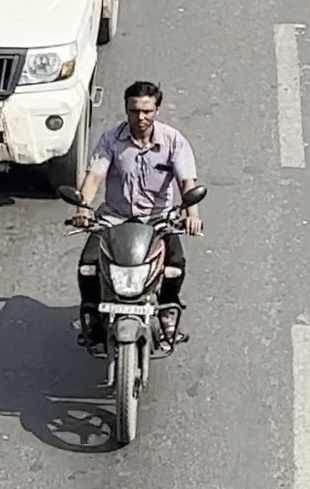BikeWithRider: (52, 70, 211, 453)
NoHelmet: (116, 76, 170, 138)
